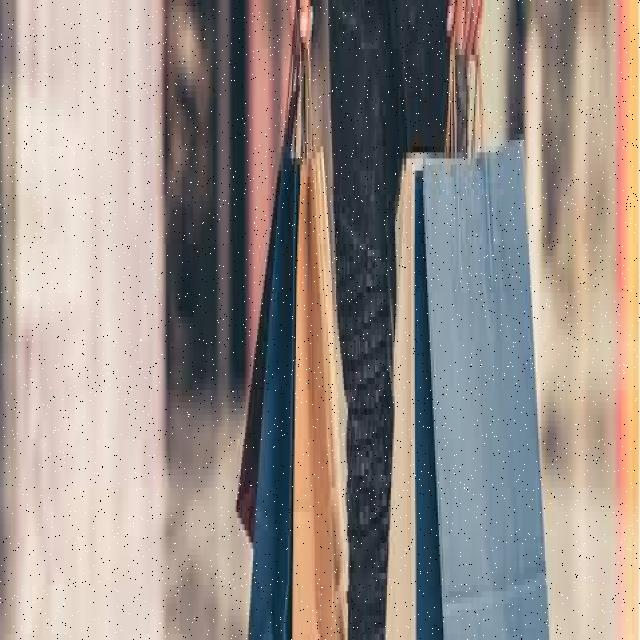paper bag: (411, 12, 548, 634), (383, 18, 478, 634), (246, 0, 319, 628), (225, 0, 308, 536), (291, 18, 348, 634)
